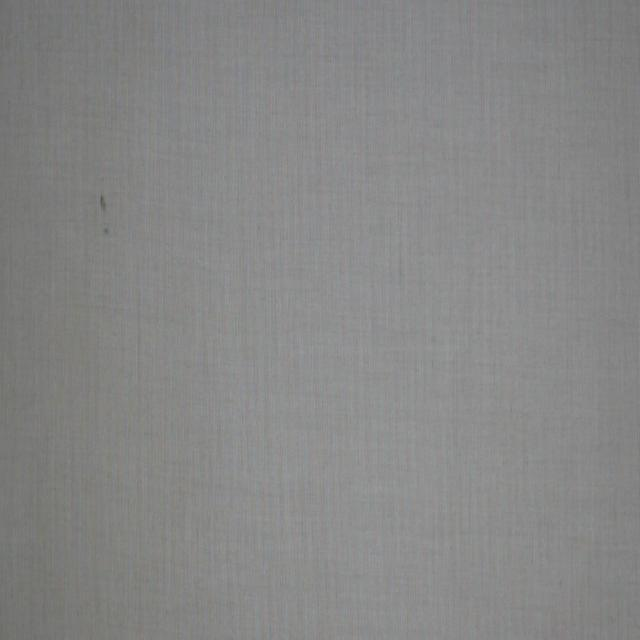dirty: (99, 193, 110, 240)
